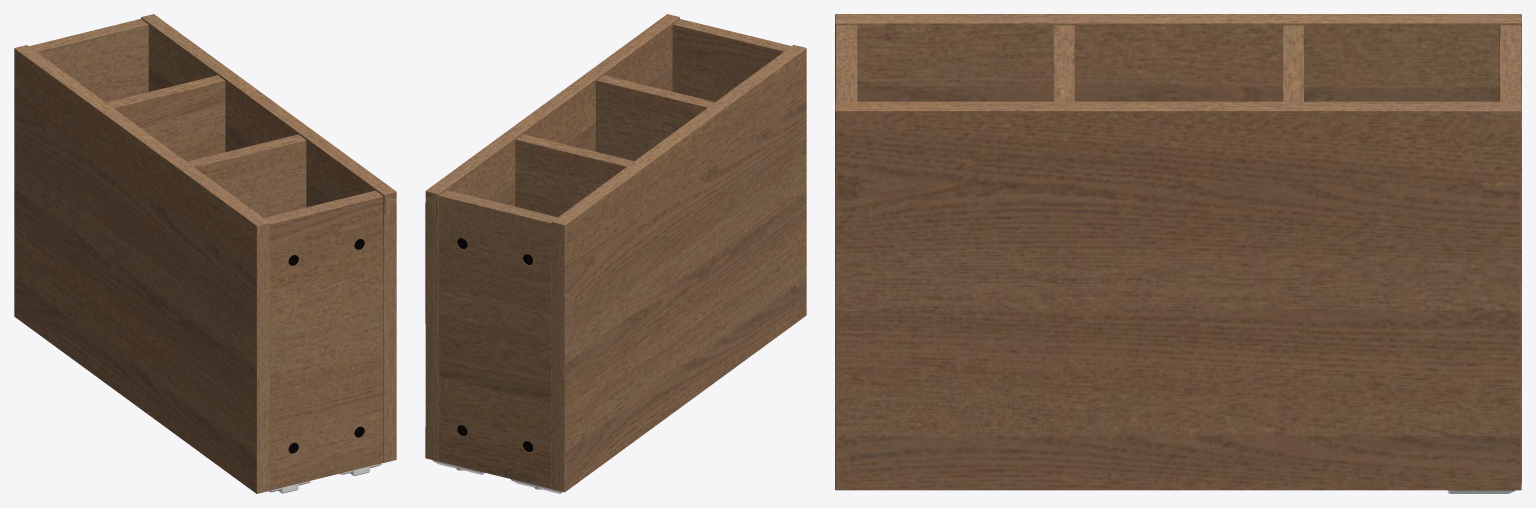
Rendered from vadholma_szafka_otwarta_60374341.glb.
The picture shows the model from 3 angles, left to right: view 1: azimuth 30°, elevation 25°; view 2: azimuth 150°, elevation 25°; view 3: azimuth 270°, elevation 25°; orthographic projection. The views are drawn at different scales.
Parts seen in each view (by area): view 1: vadholma_szafka_otwarta_60374341; view 2: vadholma_szafka_otwarta_60374341; view 3: vadholma_szafka_otwarta_60374341.
Boxes of the visible parts, left/top/right/bottom form: vadholma_szafka_otwarta_60374341: left=14, top=14, right=396, bottom=493; vadholma_szafka_otwarta_60374341: left=425, top=14, right=806, bottom=493; vadholma_szafka_otwarta_60374341: left=835, top=14, right=1521, bottom=493.
Size of the model in its own units: 0.2 by 0.3762 by 0.6.
Materials: 1 (1 with a texture image).
